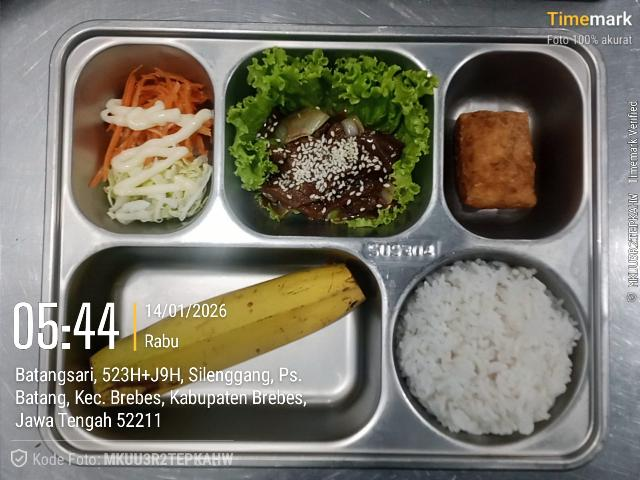ayam: (262, 127, 403, 219)
buah: (90, 264, 365, 405), (91, 68, 213, 224)
nasi: (397, 260, 581, 434)
sayur: (227, 47, 438, 227)
tahu: (456, 111, 536, 208)
